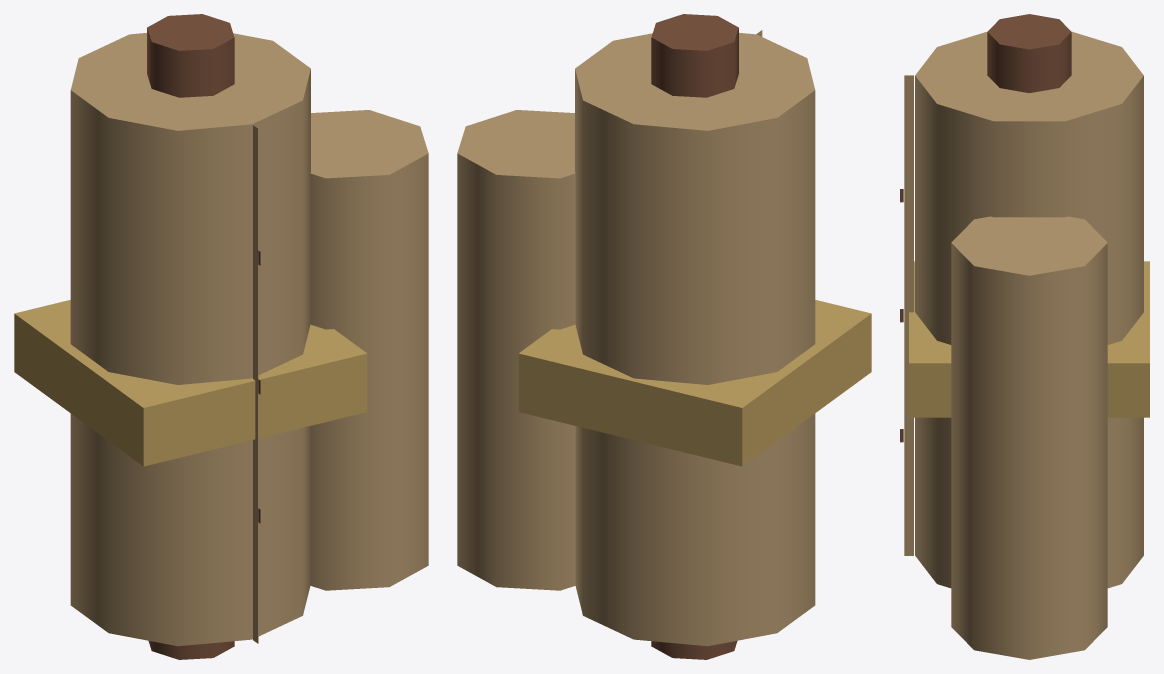
The model's file is scroll-2.glb.
The picture shows the model from 3 angles, left to right: view 1: azimuth 30°, elevation 25°; view 2: azimuth 150°, elevation 25°; view 3: azimuth 270°, elevation 25°; orthographic projection. The views are drawn at different scales.
Parts seen in each view (by area): view 1: piece_whole, ReadingSheet; view 2: piece_whole; view 3: piece_whole, ReadingSheet.
Boxes of the visible parts, x1,y1,x2,y2 form: piece_whole: (14,14,428,659); ReadingSheet: (253,124,260,643); piece_whole: (457,14,871,659); piece_whole: (909,14,1149,659); ReadingSheet: (900,75,913,555).
Bounding box in the file's own units: 0.305 × 0.52 × 0.2075.
